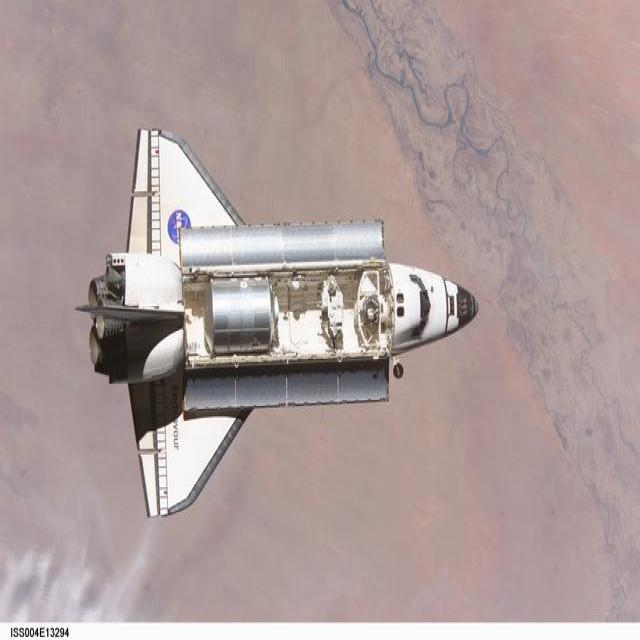medium_debris: (79, 129, 478, 516)
